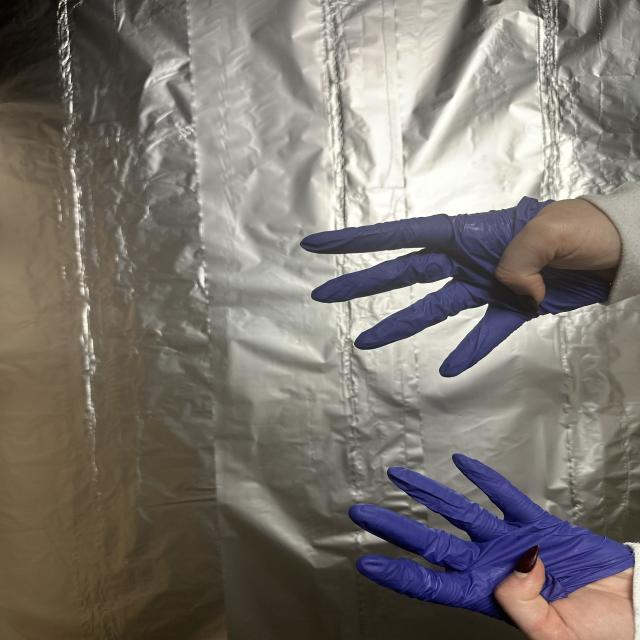glove_partial: (300, 197, 626, 381), (347, 451, 640, 640)
